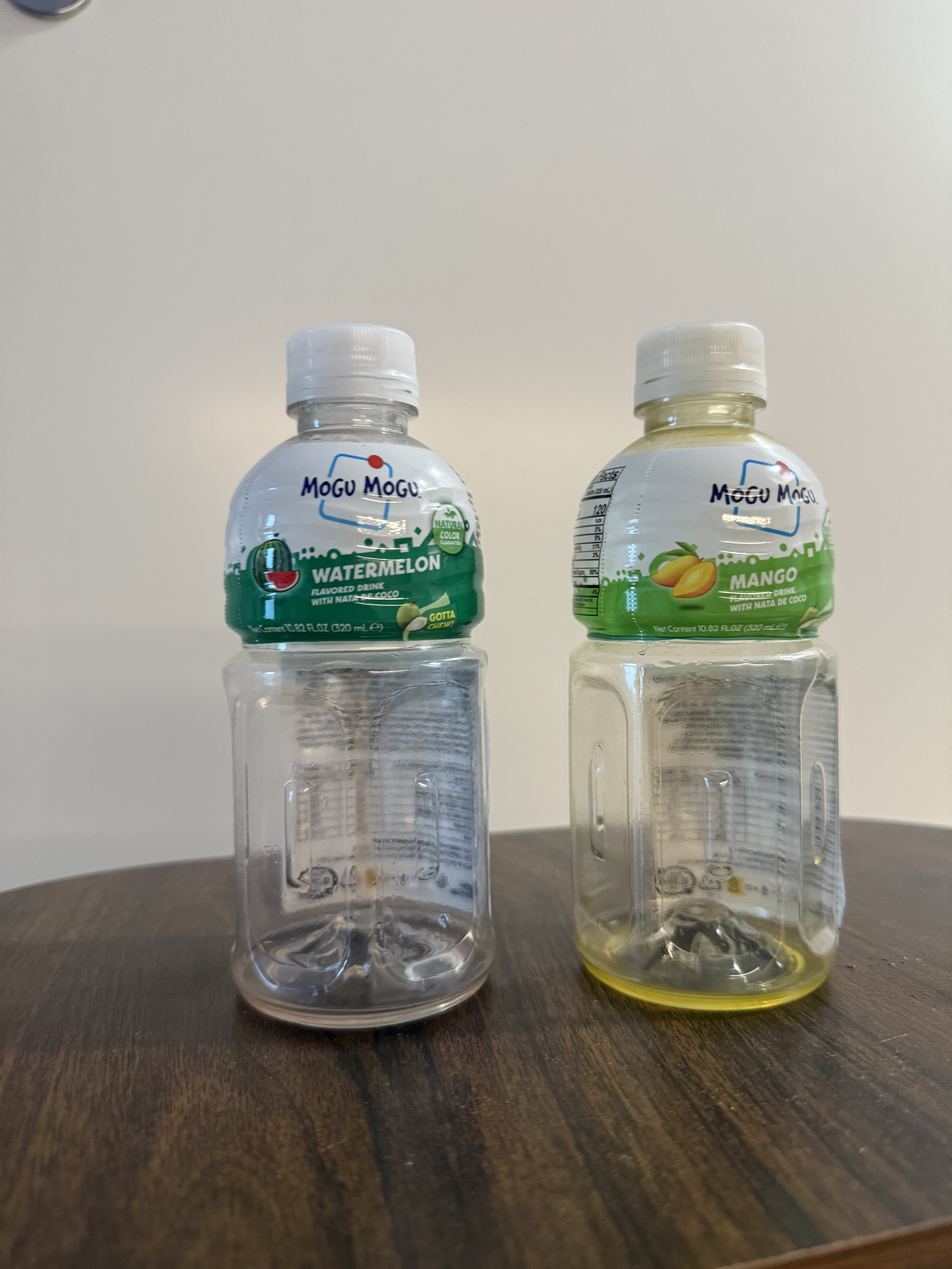Pantburk: (219, 311, 503, 1029), (568, 311, 849, 1024)
